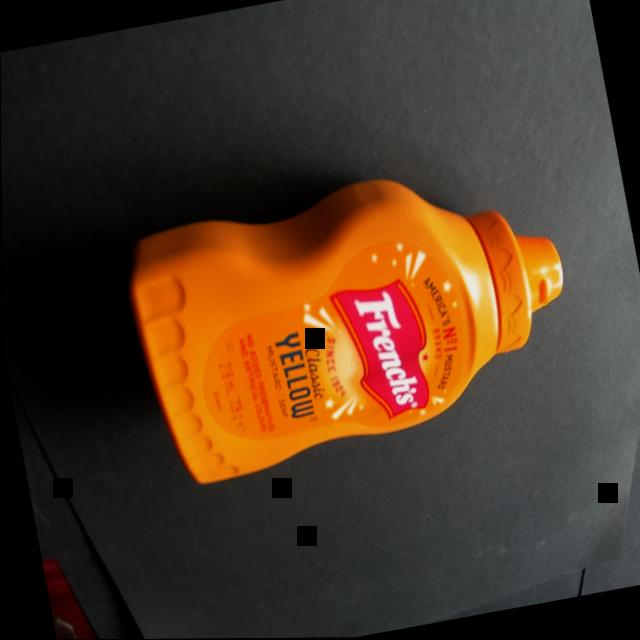Mustard: (95, 116, 603, 521)
